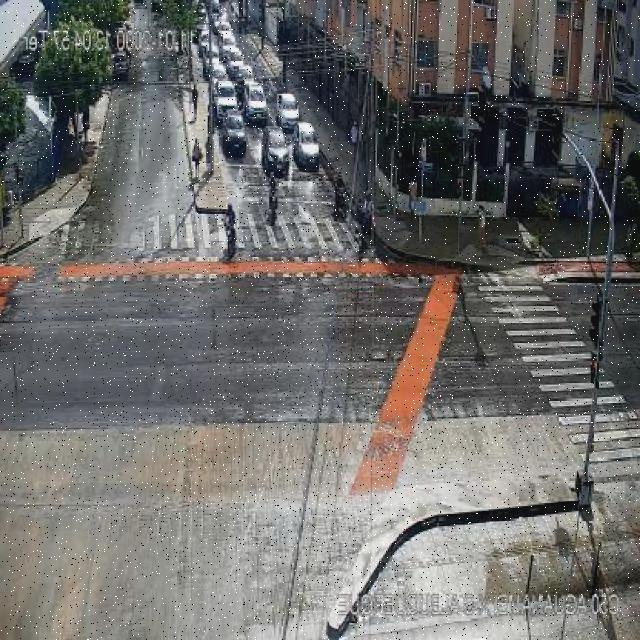Car: (262, 125, 290, 175), (292, 121, 320, 170), (220, 111, 247, 156), (242, 83, 269, 125), (213, 79, 238, 118), (275, 92, 300, 130), (221, 44, 243, 69), (112, 51, 130, 80), (225, 56, 246, 80), (208, 60, 227, 84)
